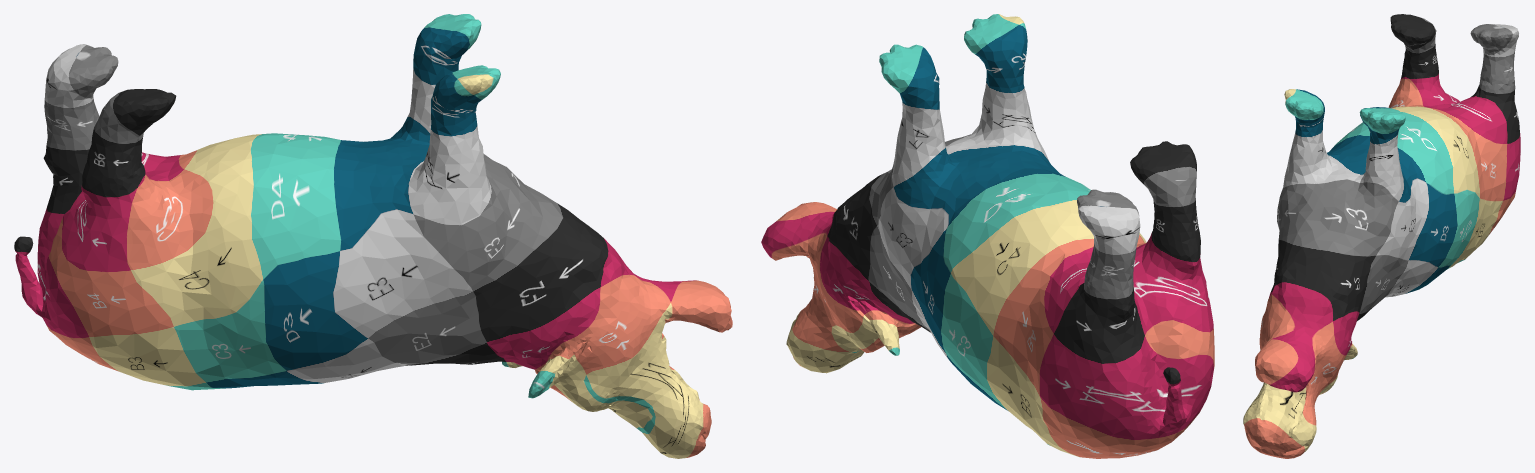
The model's file is horse_09-hippo_05.obj.
The picture shows the model from 3 angles, left to right: view 1: azimuth 30°, elevation 25°; view 2: azimuth 150°, elevation 25°; view 3: azimuth 270°, elevation 25°; orthographic projection. The views are drawn at different scales.
Visible parts, largest first — view 1: horse_09-hippo_05_export; view 2: horse_09-hippo_05_export; view 3: horse_09-hippo_05_export.
Part boxes in pixels (x1,y1,x2,y2): horse_09-hippo_05_export: (14,14,732,458); horse_09-hippo_05_export: (761,14,1214,458); horse_09-hippo_05_export: (1243,14,1520,458).
Size of the model in its own units: 0.8678 by 0.6137 by 0.521.
